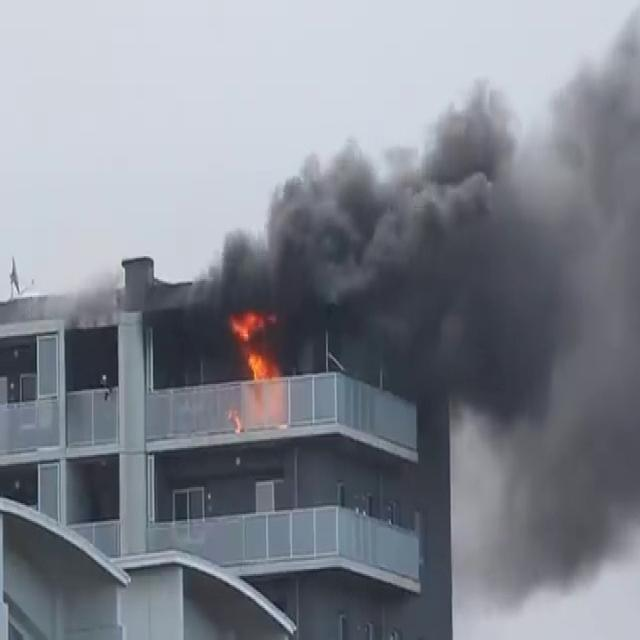Fire: (226, 302, 282, 386)
Smoke: (186, 69, 639, 423), (425, 80, 640, 591)
